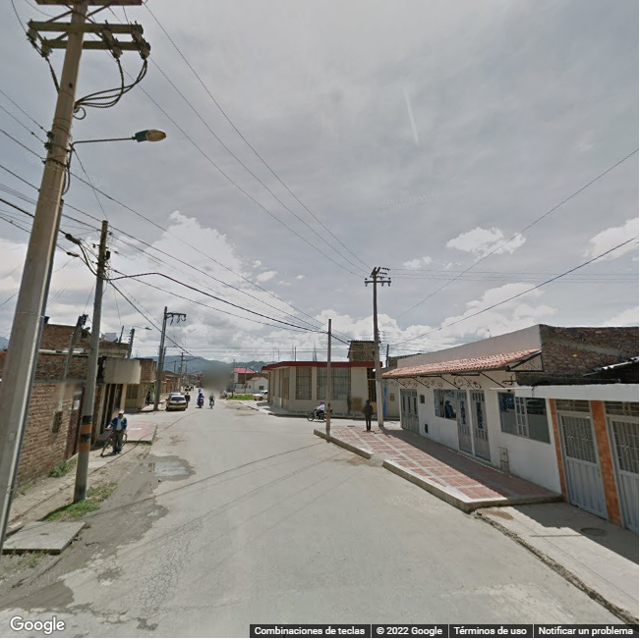D00: (498, 583, 541, 626)
D10: (158, 597, 257, 617)
D20: (130, 542, 188, 613)
D40: (93, 563, 126, 586)
